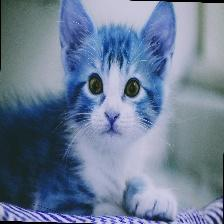kedo: (3, 0, 177, 221)
